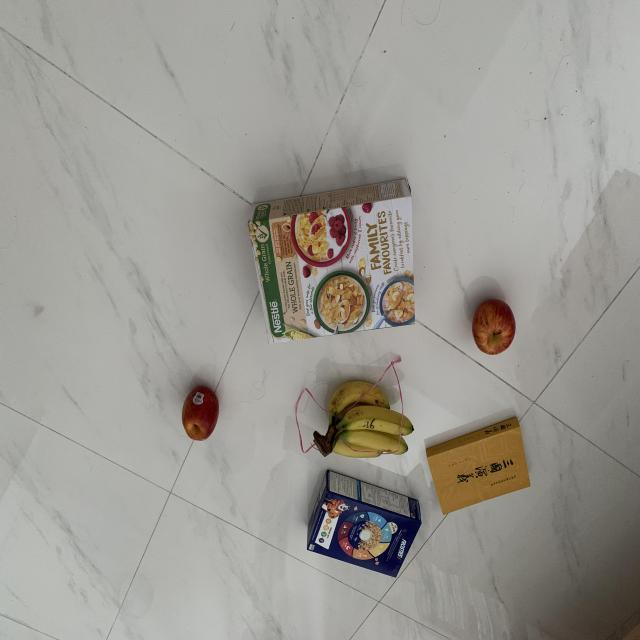Apple: (159, 373, 230, 457), (466, 296, 522, 362)
Banana: (289, 365, 415, 465)
Book: (427, 412, 539, 522)
Cerealbox: (242, 165, 418, 355), (294, 463, 426, 585)
